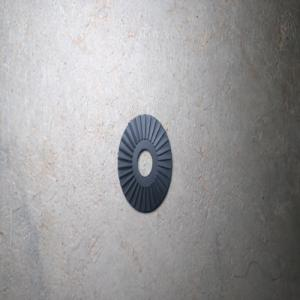Washer: (118, 114, 172, 212)
